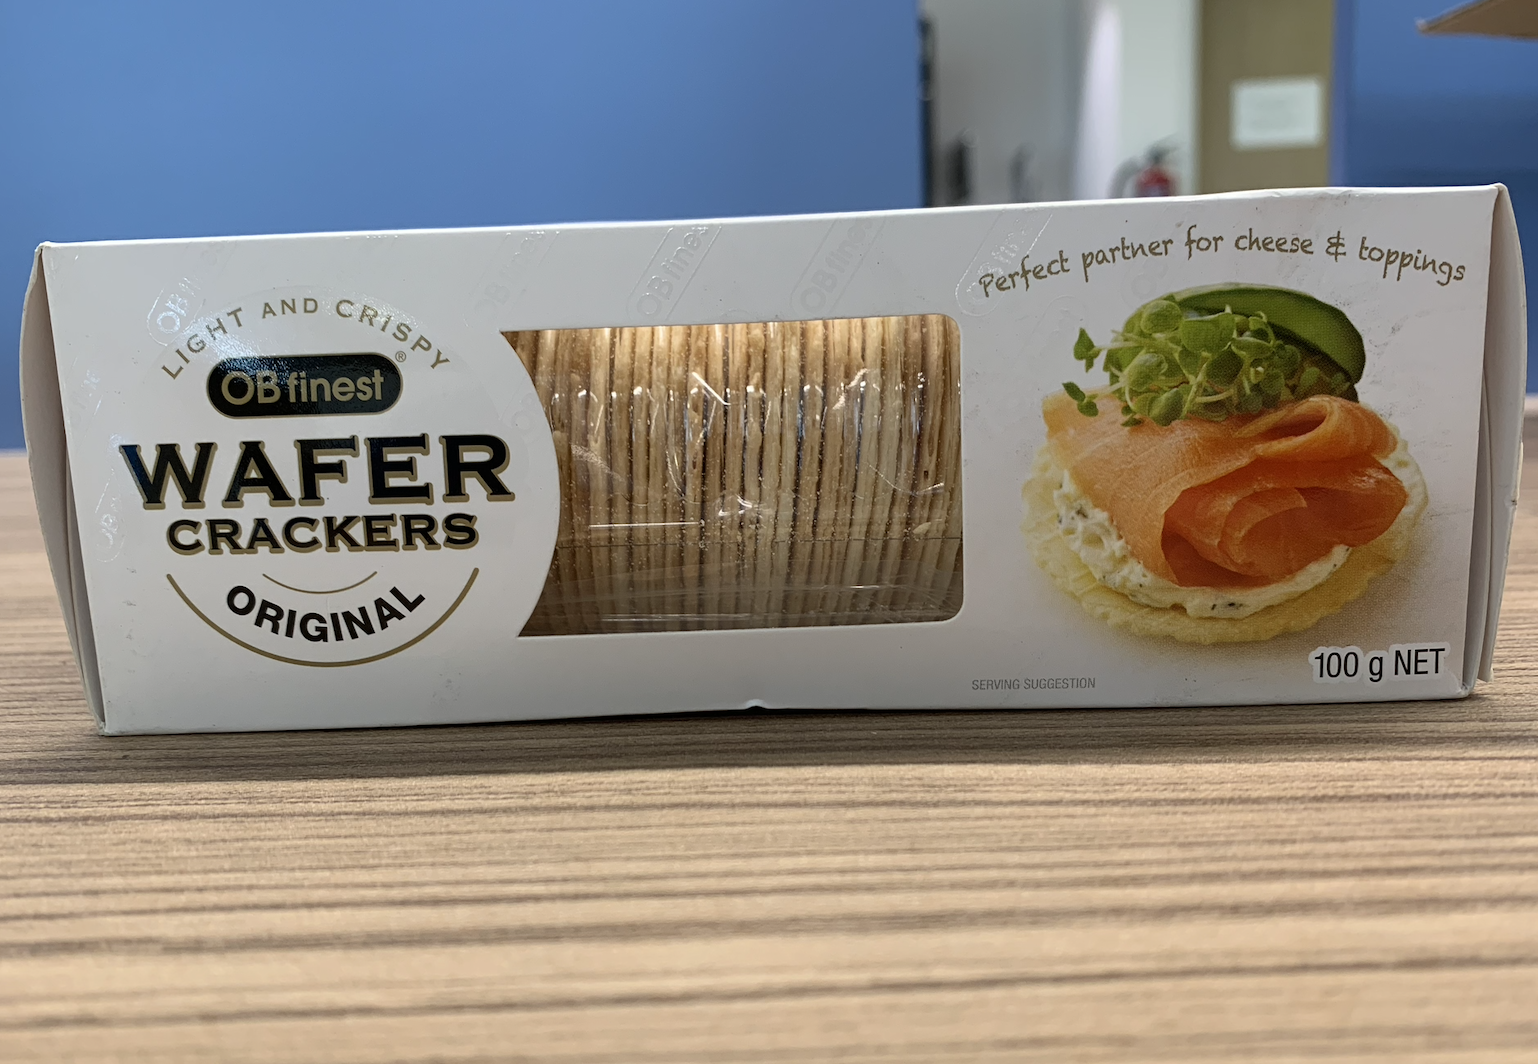crackers_100g-199g: (105, 239, 1473, 690)
